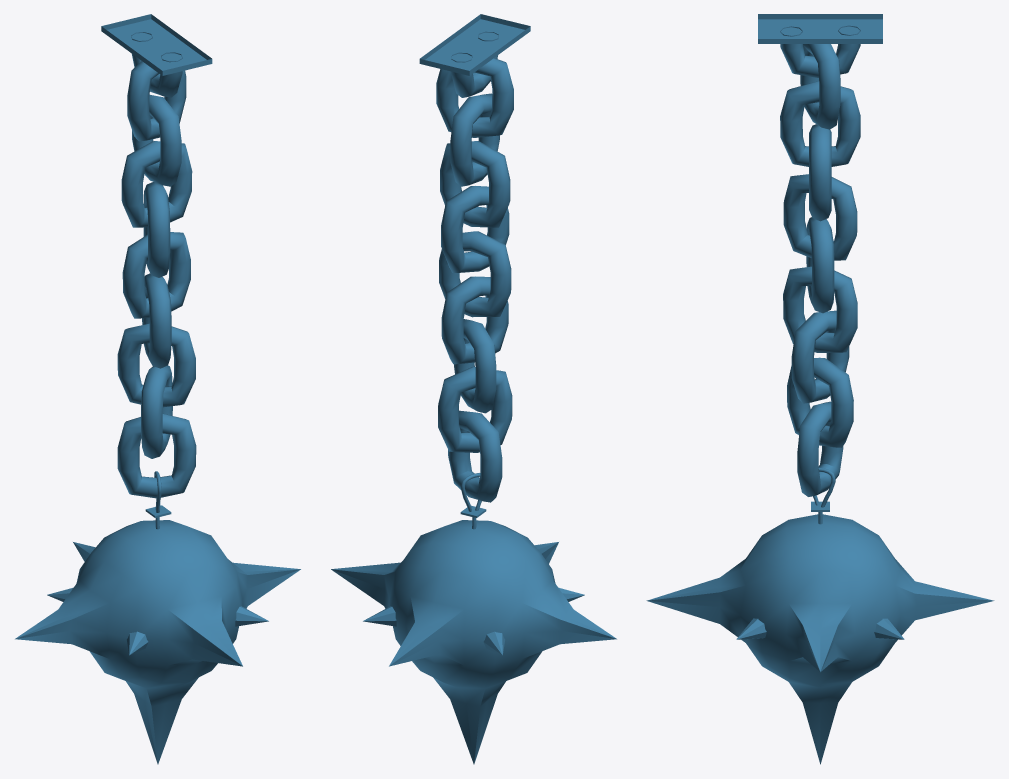
Rendered from Mesh_ColganteMazo_v001.fbx.
The picture shows the model from 3 angles, left to right: view 1: azimuth 30°, elevation 25°; view 2: azimuth 150°, elevation 25°; view 3: azimuth 270°, elevation 25°; orthographic projection. The views are drawn at different scales.
Parts seen in each view (by area): view 1: Mesh_ColganteMazo_v001; view 2: Mesh_ColganteMazo_v001; view 3: Mesh_ColganteMazo_v001.
Part boxes in pixels (box(x1,y1,x2,y2)): Mesh_ColganteMazo_v001: box(15, 14, 300, 764); Mesh_ColganteMazo_v001: box(331, 14, 616, 764); Mesh_ColganteMazo_v001: box(646, 14, 994, 764).
Bounding box in the file's own units: 2.01 × 4.82 × 2.06.
